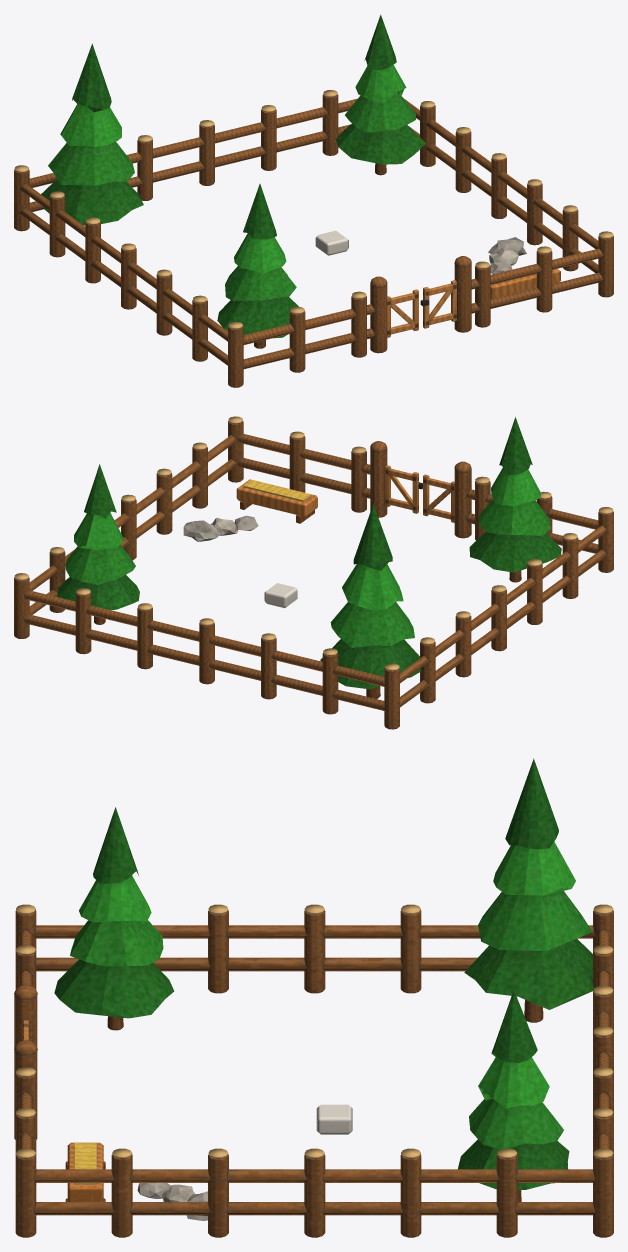
The model's file is elk_woods.glb.
3 renders of one model, top to bottom at view 1: azimuth 30°, elevation 25°; view 2: azimuth 150°, elevation 25°; view 3: azimuth 270°, elevation 25°, orthographic. The views are drawn at different scales.
Parts seen in each view (by area): view 1: elk_woods, gate1, gate0; view 2: elk_woods, gate1, gate0; view 3: elk_woods.
Part boxes in pixels (left/top/right/bottom): elk_woods: left=14, top=14, right=613, bottom=387; gate1: left=420, top=280, right=456, bottom=328; gate0: left=387, top=289, right=418, bottom=337; elk_woods: left=14, top=416, right=613, bottom=729; gate1: left=384, top=465, right=422, bottom=513; gate0: left=423, top=474, right=454, bottom=522; elk_woods: left=14, top=758, right=613, bottom=1237.
Bounding box in the file's own units: 3 × 1.44 × 3.01.
Materials: 1 (1 with a texture image).
